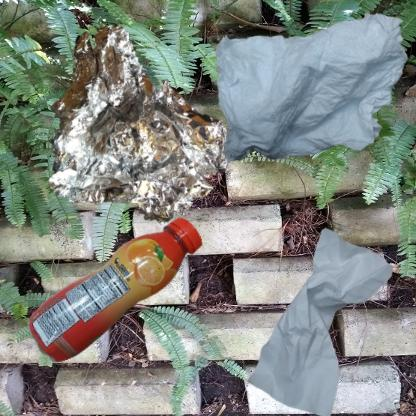aluminio: (10, 10, 287, 281)
botella: (10, 213, 265, 395)
papel: (213, 213, 416, 416), (213, 10, 416, 166)
